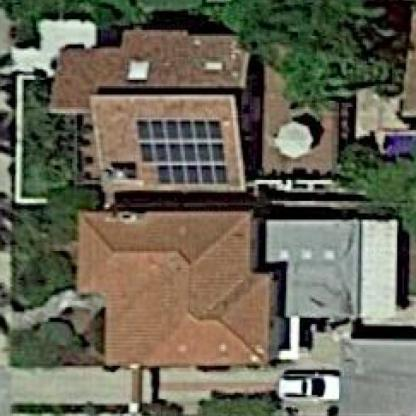car: (275, 367, 341, 404)
solar_panel: (130, 113, 229, 185)
